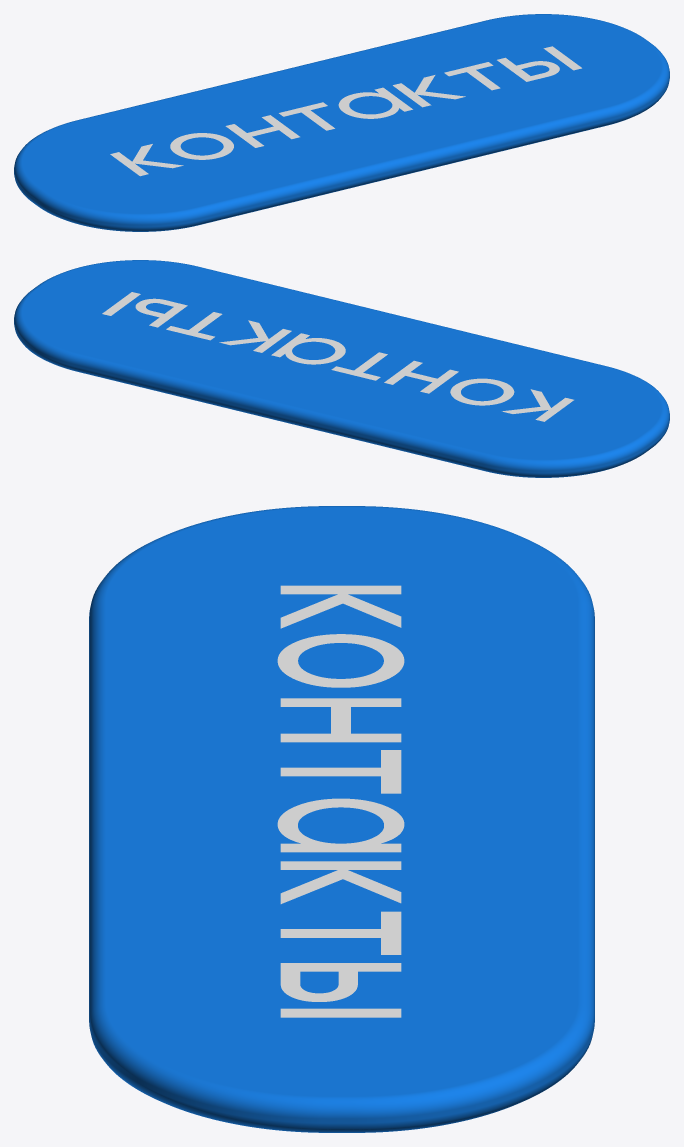
Rendered from contacts.glb.
The picture shows the model from 3 angles, top to bottom: view 1: azimuth 30°, elevation 25°; view 2: azimuth 150°, elevation 25°; view 3: azimuth 270°, elevation 25°; orthographic projection. The views are drawn at different scales.
Parts seen in each view (by area): view 1: Rectangle 7; view 2: Rectangle 7; view 3: Rectangle 7.
Boxes of the visible parts, x1,y1,x2,y2 form: Rectangle 7: (14, 14, 669, 231); Rectangle 7: (14, 260, 669, 477); Rectangle 7: (89, 506, 594, 1132).
Size of the model in its own units: 5.91 by 0.1797 by 2.09.
